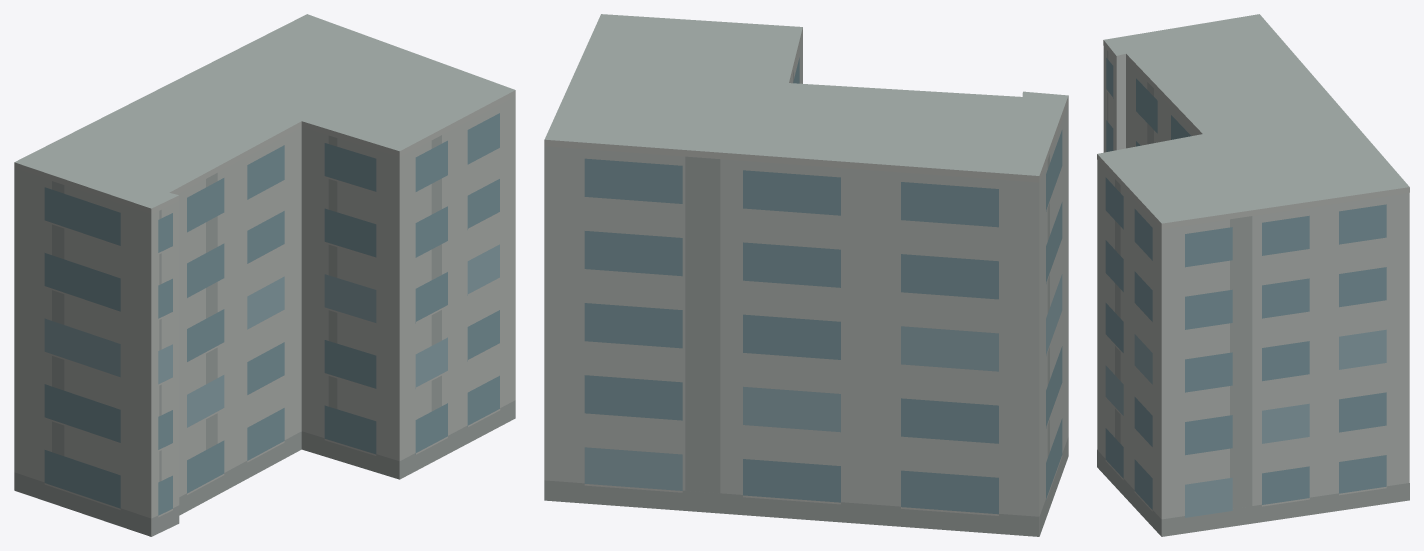
The model's file is survey-upis-32853804.glb.
The picture shows the model from 3 angles, left to right: view 1: azimuth 30°, elevation 25°; view 2: azimuth 150°, elevation 25°; view 3: azimuth 270°, elevation 25°; orthographic projection. The views are drawn at different scales.
Parts seen in each view (by area): view 1: survey-upis-32853804.tmp; view 2: survey-upis-32853804.tmp; view 3: survey-upis-32853804.tmp.
Boxes of the visible parts, x1,y1,x2,y2 form: survey-upis-32853804.tmp: [14, 14, 515, 536]; survey-upis-32853804.tmp: [544, 14, 1068, 536]; survey-upis-32853804.tmp: [1097, 14, 1409, 536].
Bounding box in the file's own units: 19.16 × 13.35 × 12.09.
